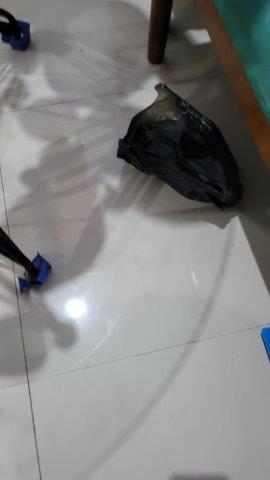plastik: (118, 85, 244, 214)
